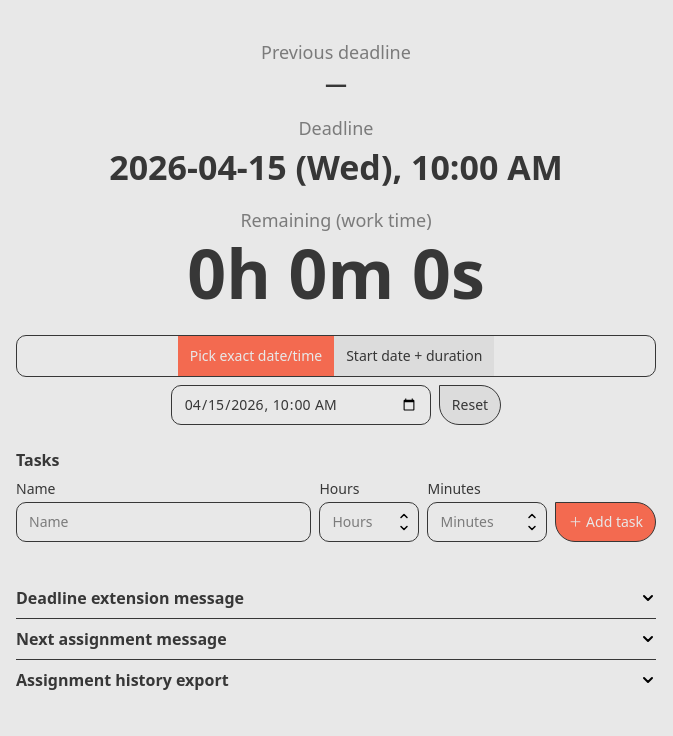
it: App deadline behavior › reduces remaining work via task multiplier in adjusted mode
This screenshot has width=673, height=736.
Replace the text in the field named "Deadline time" with "2026-04-15T16:00" at (301, 405), box [171,385,431,425]
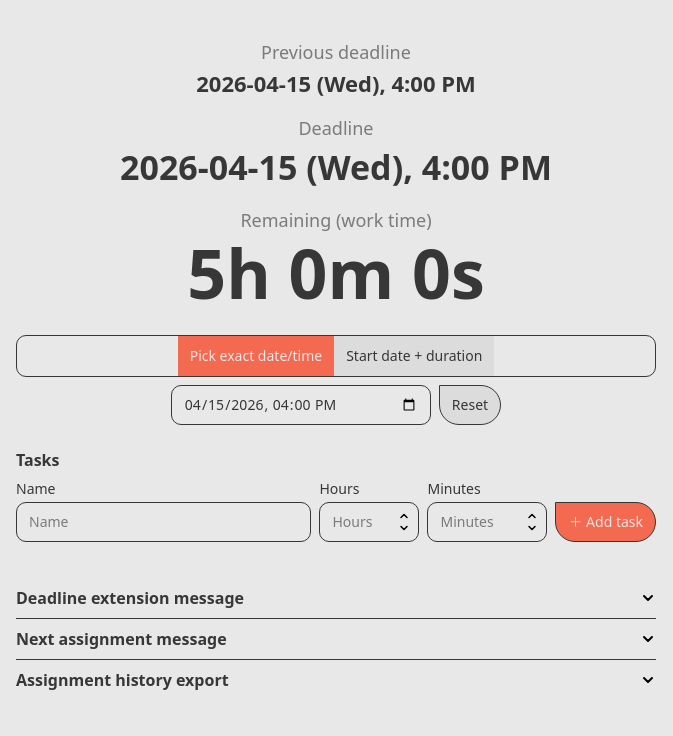
Type "小編文" into the field labelled "Name" at (164, 522), box [16,502,312,542]
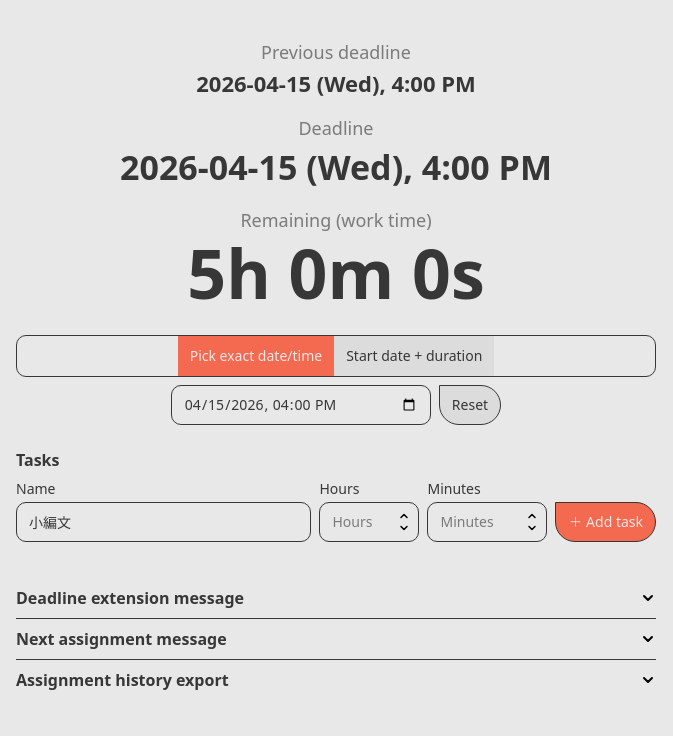
Type "2" into the number field labelled "Hours" at (370, 522), box [320,502,420,542]
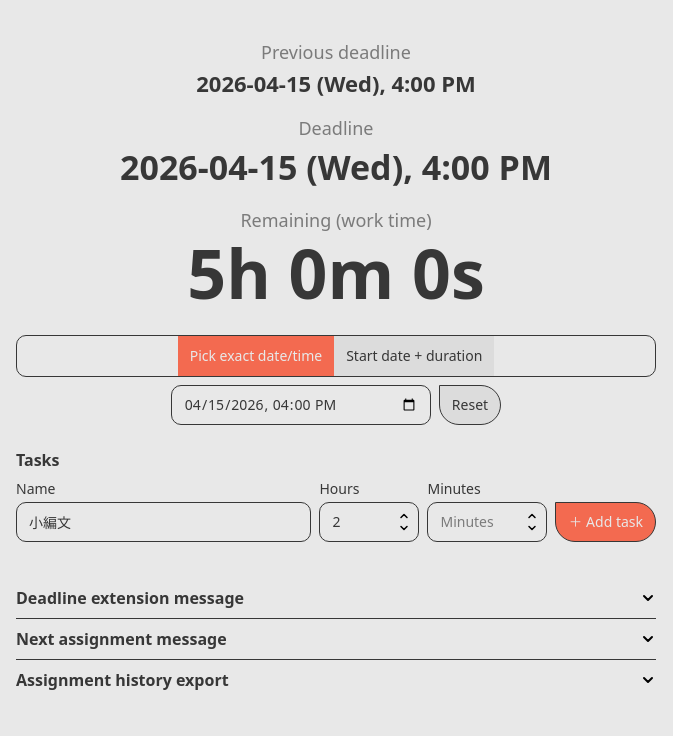
Type "0" into the number field labelled "Minutes" at (488, 522), box [428,502,548,542]
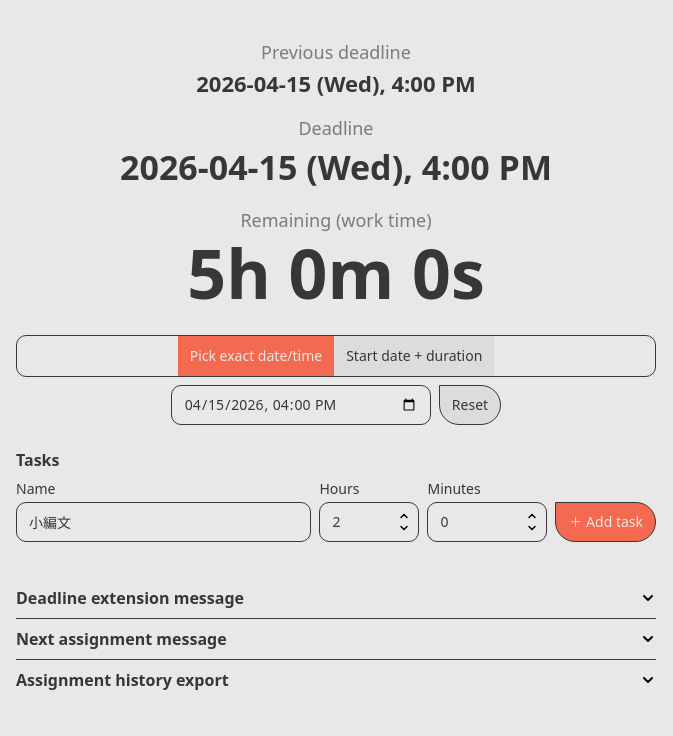
Click the button "Add task" at (606, 522), box [556,502,656,542]
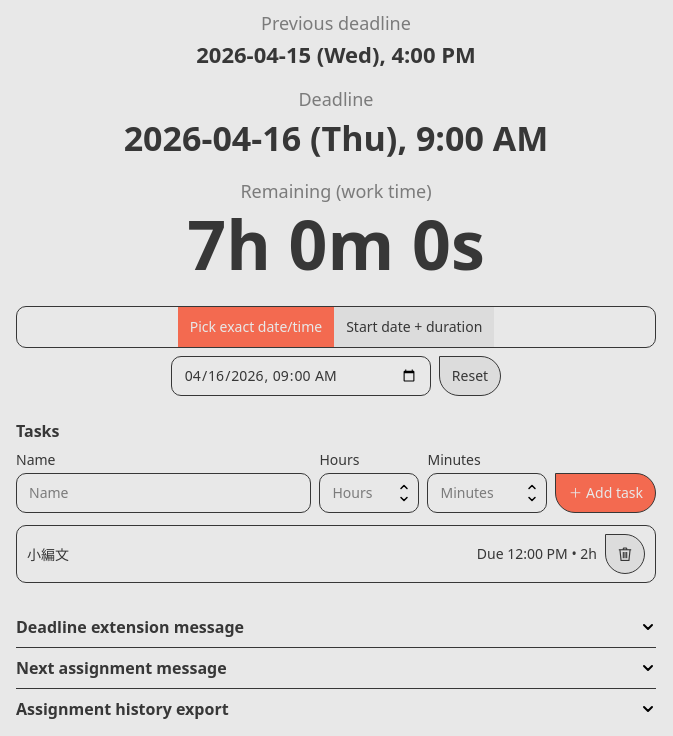
Click the button with aria-label "Toggle original and adjusted schedule" at (336, 138), box [124,115,548,161]
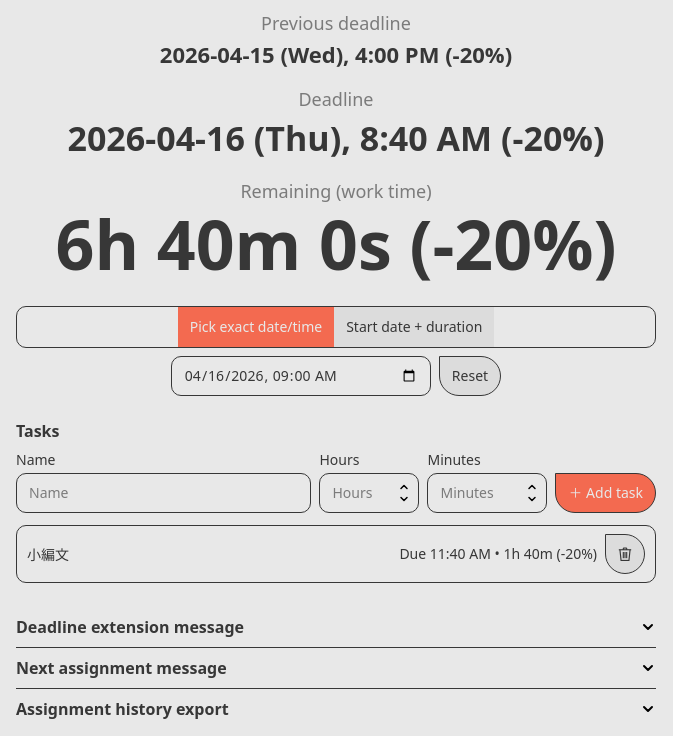
expect the text named "Remaining work time display" shows "6h 40m": met, box [56,197,616,290]
expect the text named "Remaining work time display" shows "(-20%)": met, box [392,197,616,290]
